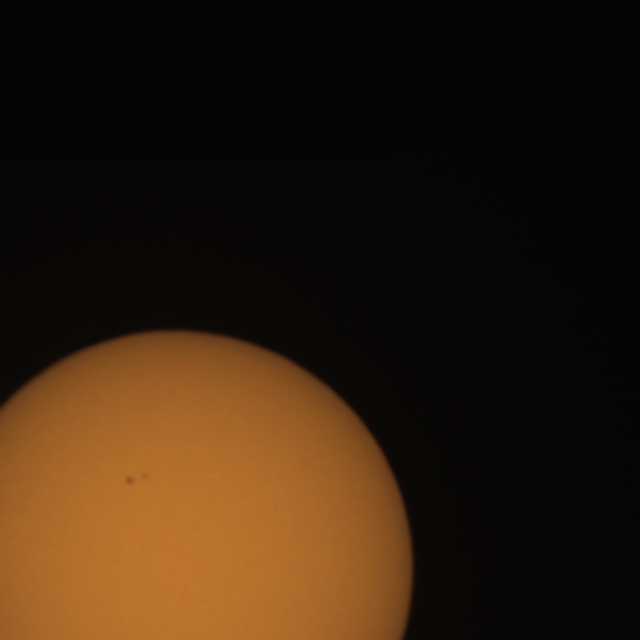sunspot: (123, 470, 150, 488)
